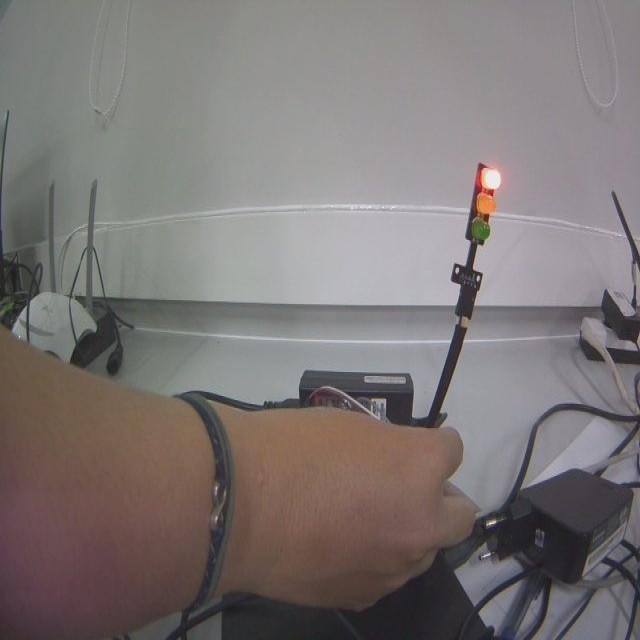Lampu Merah: (466, 163, 501, 244)
